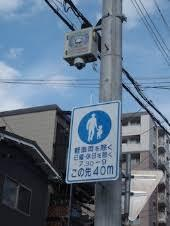maru: (70, 53, 89, 73)
